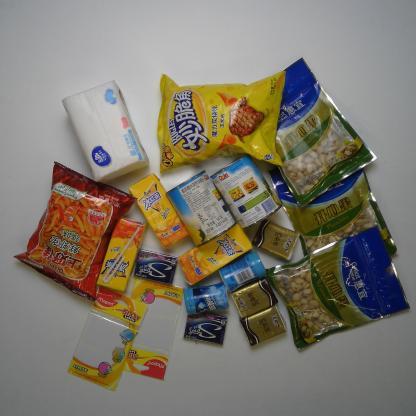Canned Food: (206, 150, 284, 230), (164, 167, 240, 248)
Dried Fruit: (262, 222, 414, 353), (258, 52, 380, 211), (262, 155, 402, 269)
Drink: (174, 219, 256, 288), (126, 171, 192, 251), (95, 214, 150, 294)
Gum: (216, 249, 270, 296), (182, 279, 232, 319), (132, 246, 180, 286), (182, 310, 229, 348)
Puffed Food: (12, 159, 140, 305), (155, 71, 290, 176)
Stationery: (66, 284, 151, 393), (115, 273, 188, 383)
Tissue: (56, 76, 152, 187), (251, 216, 302, 263), (229, 275, 281, 320), (237, 303, 289, 348)
